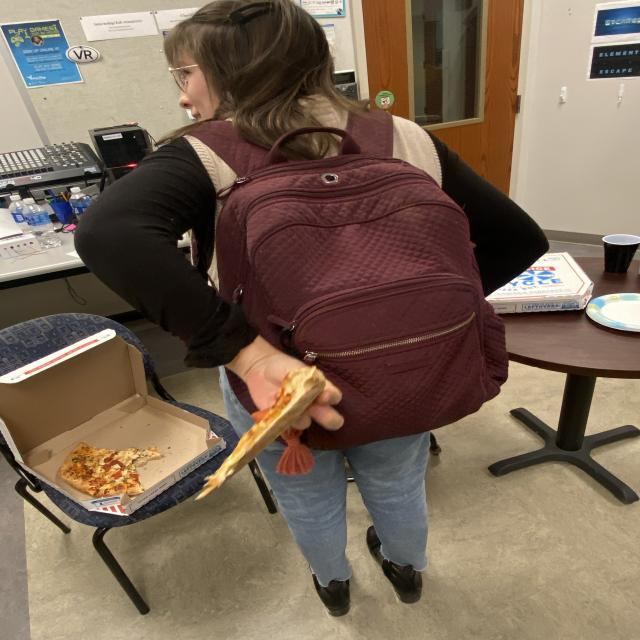Backpacks: (223, 163, 514, 440)
